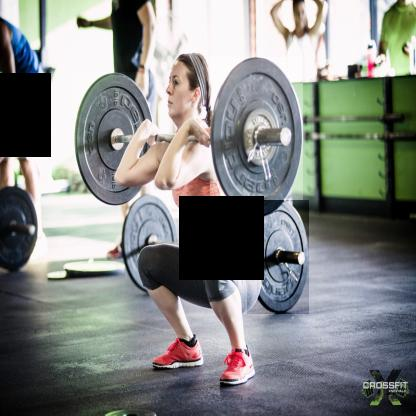barbell: (211, 59, 304, 219), (75, 73, 157, 207), (248, 202, 310, 316)
